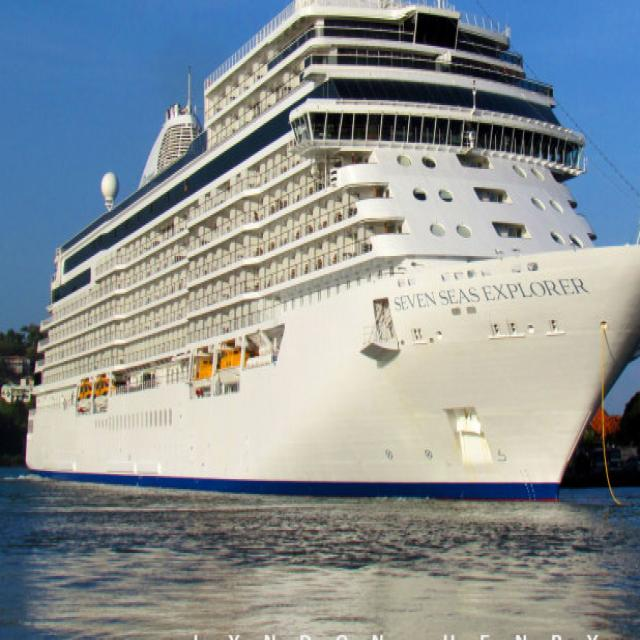cruises: (18, 1, 640, 511)
